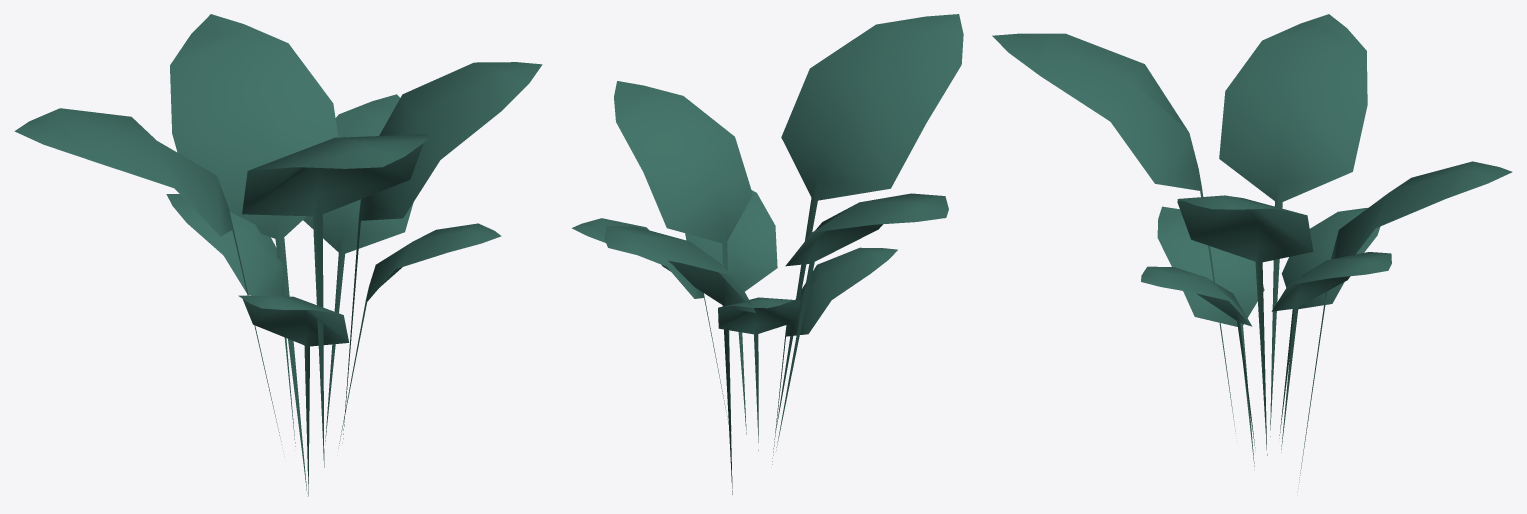
Rendered from Plant.fbx.
The picture shows the model from 3 angles, left to right: view 1: azimuth 30°, elevation 25°; view 2: azimuth 150°, elevation 25°; view 3: azimuth 270°, elevation 25°; orthographic projection. The views are drawn at different scales.
Parts seen in each view (by area): view 1: Plant; view 2: Plant; view 3: Plant.
Boxes of the visible parts, <box> form: Plant: <box>14,14,542,496</box>; Plant: <box>572,14,963,494</box>; Plant: <box>992,14,1512,491</box>.
Size of the model in its own units: 58.74 by 65.33 by 58.41.
